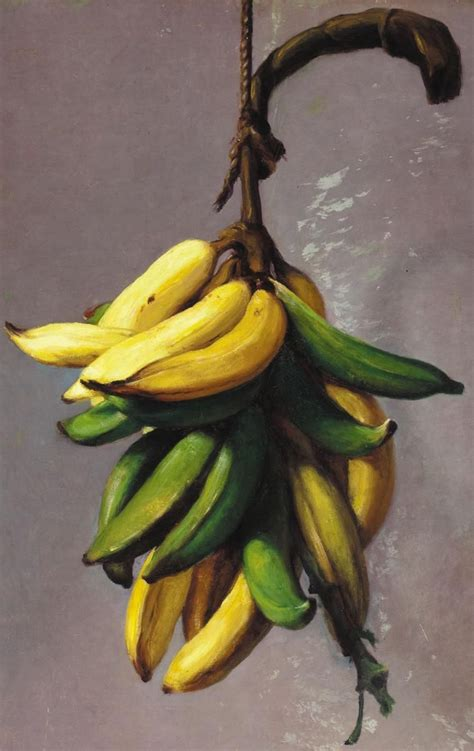banana: (71, 270, 254, 399), (110, 287, 289, 401), (160, 571, 280, 701), (119, 539, 193, 691)
